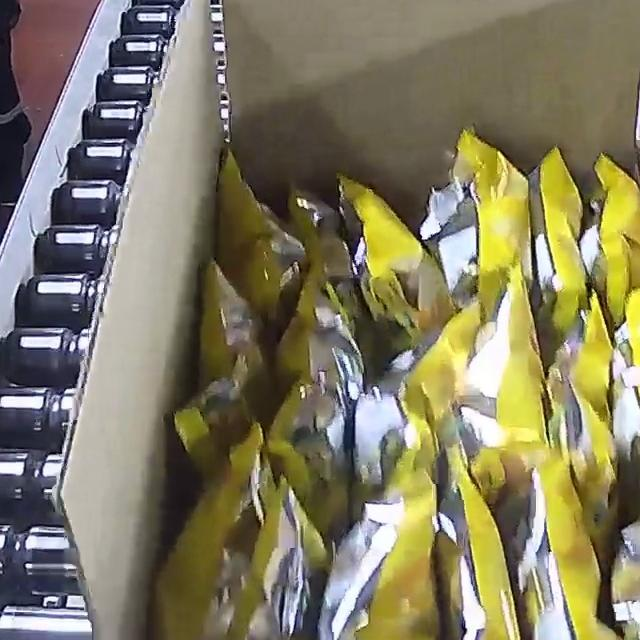salted: (144, 121, 640, 640)
